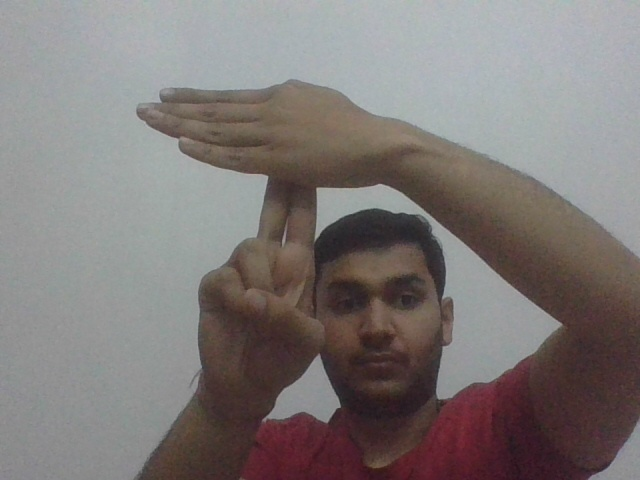N: (131, 72, 375, 211)
